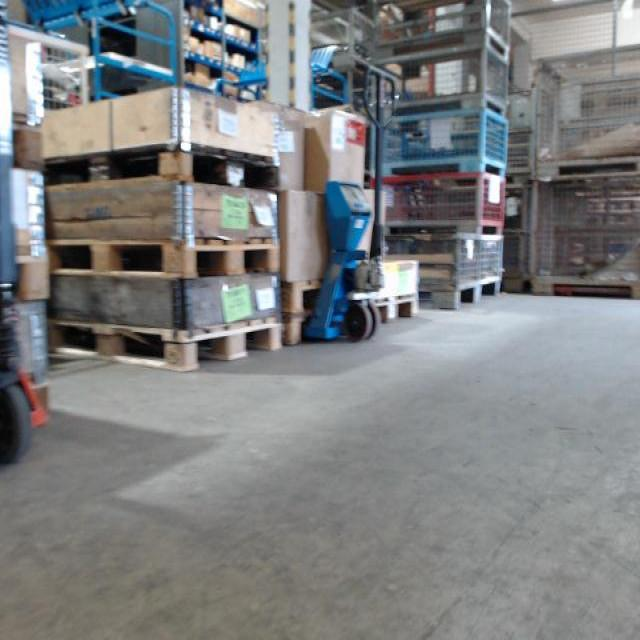pallet: (49, 315, 282, 371), (54, 234, 280, 282), (48, 149, 278, 190), (376, 291, 420, 325), (282, 279, 320, 313), (280, 316, 309, 347)
pallet_truck: (302, 61, 400, 345), (1, 0, 53, 462)
stillage: (533, 171, 639, 301), (536, 60, 639, 172), (368, 48, 512, 116), (387, 227, 502, 312), (372, 0, 511, 62), (378, 108, 508, 174), (388, 173, 504, 229), (507, 178, 532, 295)
